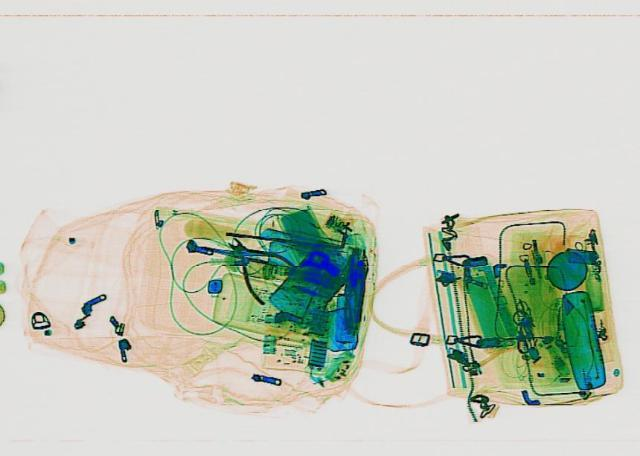Pliers: (202, 227, 310, 303)
